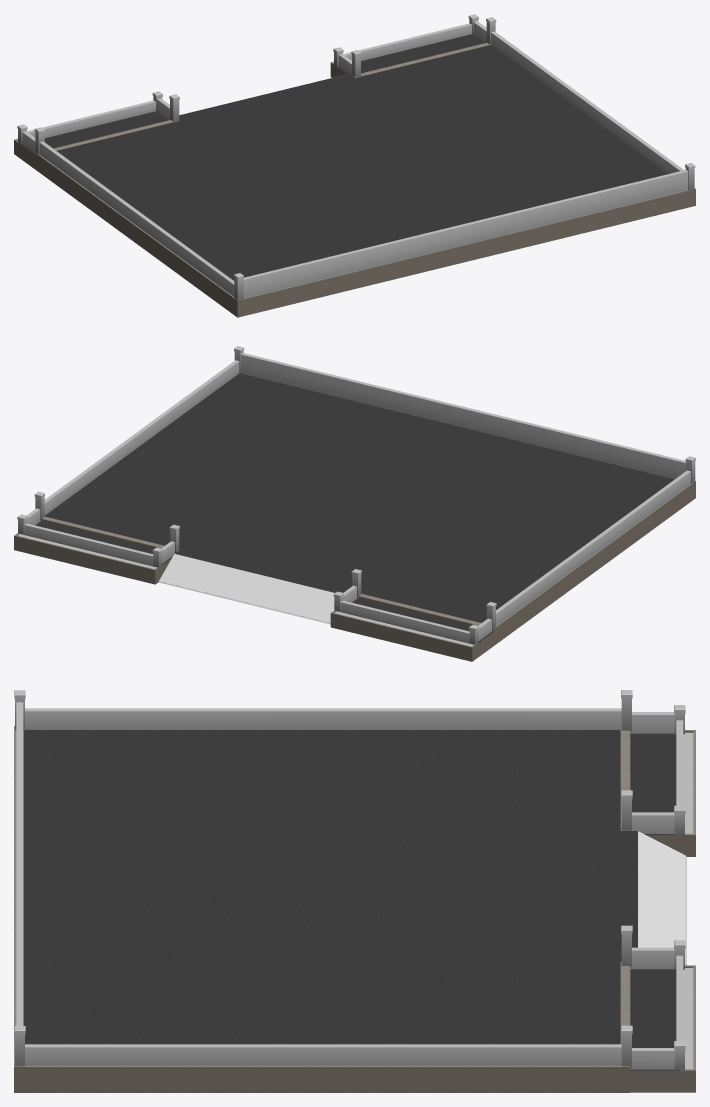
The model's file is SMAEnvi.fbx.
3 renders of one model, top to bottom at view 1: azimuth 30°, elevation 25°; view 2: azimuth 150°, elevation 25°; view 3: azimuth 270°, elevation 25°, orthographic. The views are drawn at different scales.
Parts seen in each view (by area): view 1: Plane.004, Plane.018, Plane.017, Plane.005, Plane.015, Cube.004, Plane.016, Plane.021, Cube.008; view 2: Plane.004, Plane.018, Plane.005, Plane.017, ColiderTangga_SMA, Plane.015, Cube.004, Plane.016, Cube.002, Plane.021; view 3: Plane.004, Plane.017, Plane.005, ColiderTangga_SMA, Plane.016, Plane.018, Cube.004, Plane.015, Cube.002, Plane.021, Cube.008.
Part boxes in pixels (x1=…): Plane.004: x1=35, y1=43, x2=695, y2=317; Plane.018: x1=243, y1=170, x2=688, y2=298; Plane.017: x1=39, y1=31, x2=683, y2=296; Plane.005: x1=14, y1=34, x2=484, y2=169; Plane.015: x1=27, y1=23, x2=471, y2=138; Cube.004: x1=34, y1=17, x2=496, y2=154; Plane.016: x1=22, y1=21, x2=486, y2=153; Plane.021: x1=179, y1=73, x2=351, y2=117; Cube.008: x1=233, y1=163, x2=695, y2=300; Plane.004: x1=41, y1=373, x2=695, y2=645; Plane.018: x1=241, y1=353, x2=685, y2=478; Plane.005: x1=14, y1=521, x2=493, y2=661; Plane.017: x1=44, y1=360, x2=690, y2=625; ColiderTangga_SMA: x1=158, y1=554, x2=334, y2=624; Plane.015: x1=24, y1=523, x2=469, y2=642; Cube.004: x1=34, y1=491, x2=496, y2=630; Plane.016: x1=27, y1=508, x2=492, y2=640; Cube.002: x1=17, y1=514, x2=479, y2=644; Plane.021: x1=174, y1=552, x2=343, y2=592; Plane.004: x1=14, y1=726, x2=630, y2=1092; Plane.017: x1=25, y1=708, x2=621, y2=1065; Plane.005: x1=630, y1=730, x2=695, y2=1092; ColiderTangga_SMA: x1=638, y1=831, x2=686, y2=965; Plane.016: x1=630, y1=712, x2=674, y2=1069; Plane.018: x1=16, y1=702, x2=23, y2=1025; Cube.004: x1=621, y1=690, x2=632, y2=1067; Plane.015: x1=676, y1=720, x2=683, y2=1040; Cube.002: x1=674, y1=705, x2=685, y2=1070; Plane.021: x1=630, y1=831, x2=637, y2=947; Cube.008: x1=14, y1=690, x2=25, y2=1066.
Bounding box in the file's own units: 8339 × 708 × 7045.
